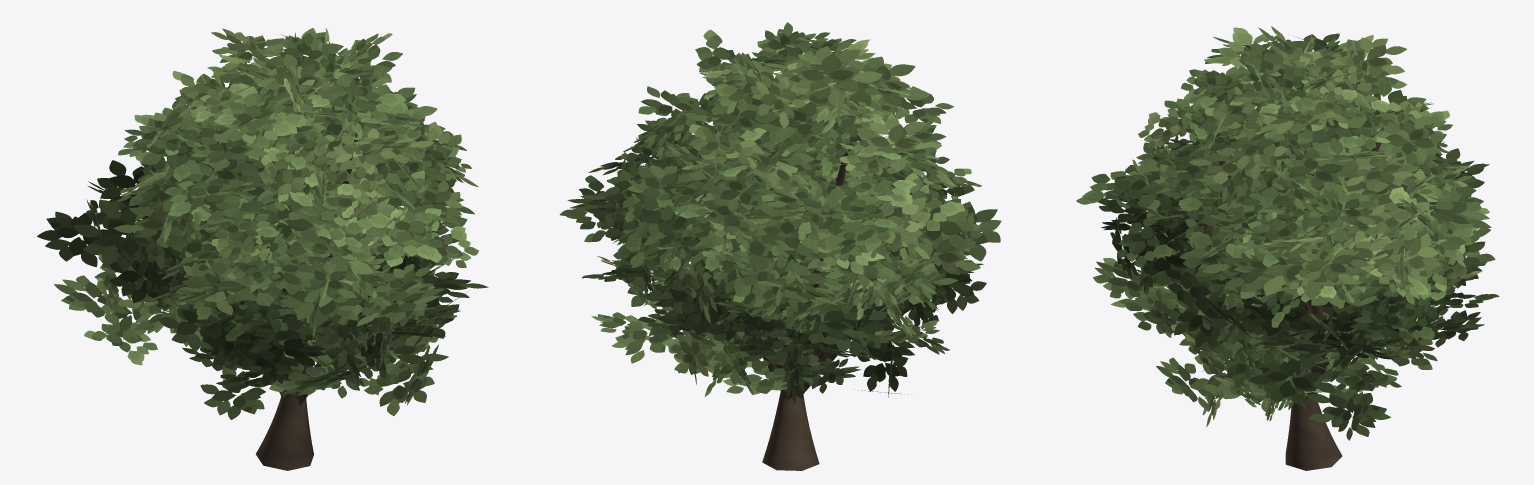
Rendered from columnar_0.glb.
3 views of the same model, side by side, from view 1: azimuth 30°, elevation 25°; view 2: azimuth 150°, elevation 25°; view 3: azimuth 270°, elevation 25° (orthographic). The views are drawn at different scales.
Parts seen in each view (by area): view 1: columnar_0; view 2: columnar_0; view 3: columnar_0.
Part boxes in pixels (x1,y1,x2,y2): columnar_0: [37, 28, 488, 470]; columnar_0: [560, 22, 1001, 470]; columnar_0: [1076, 26, 1499, 470].
Size of the model in its own units: 0.9969 by 1 by 1.
Materials: 2 (1 with a texture image).
